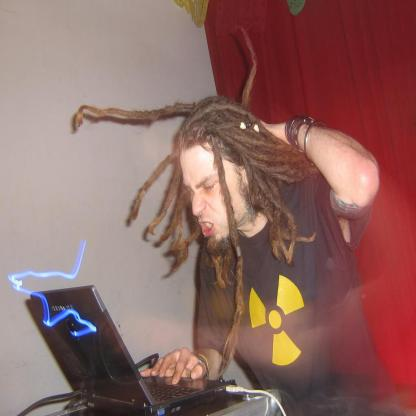board: (22, 284, 235, 415)
